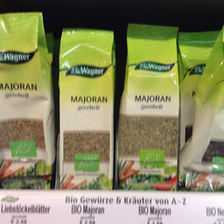spices: (118, 22, 180, 188), (1, 12, 56, 188), (59, 27, 115, 188)
